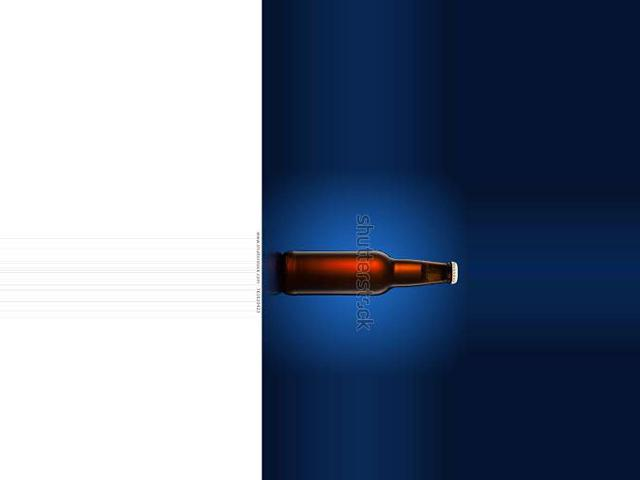beer: (281, 250, 458, 296)
